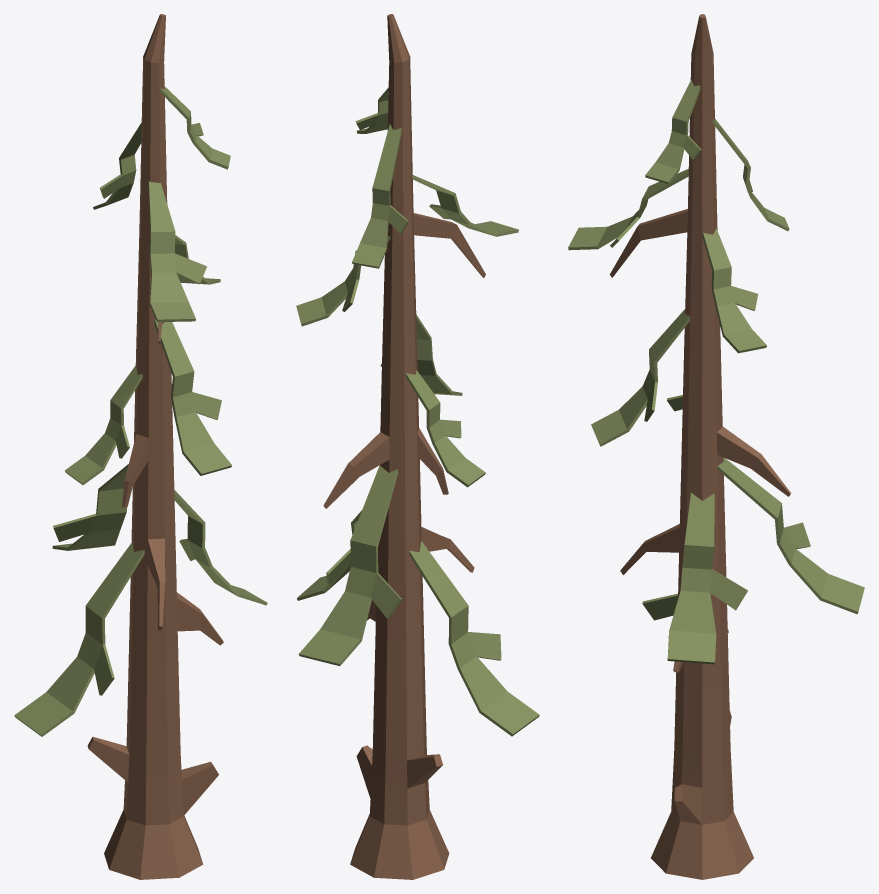
Rendered from pine_1.fbx.
The picture shows the model from 3 angles, left to right: view 1: azimuth 30°, elevation 25°; view 2: azimuth 150°, elevation 25°; view 3: azimuth 270°, elevation 25°; orthographic projection.
Parts seen in each view (by area): view 1: pine_1; view 2: pine_1; view 3: pine_1.
Part boxes in pixels (<box>): pine_1: <box>14,14,267,879</box>; pine_1: <box>296,14,539,879</box>; pine_1: <box>568,14,864,879</box>.
Bounding box in the file's own units: 203 × 730 × 232.
